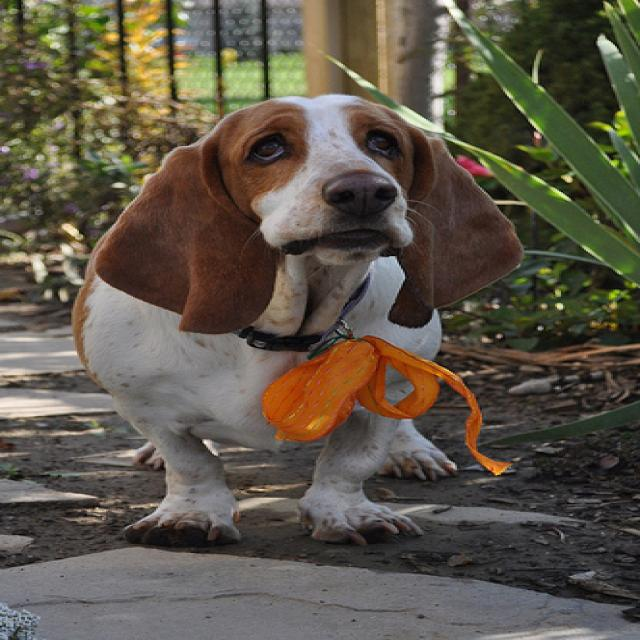dog-basset_hound: (52, 86, 534, 558)
